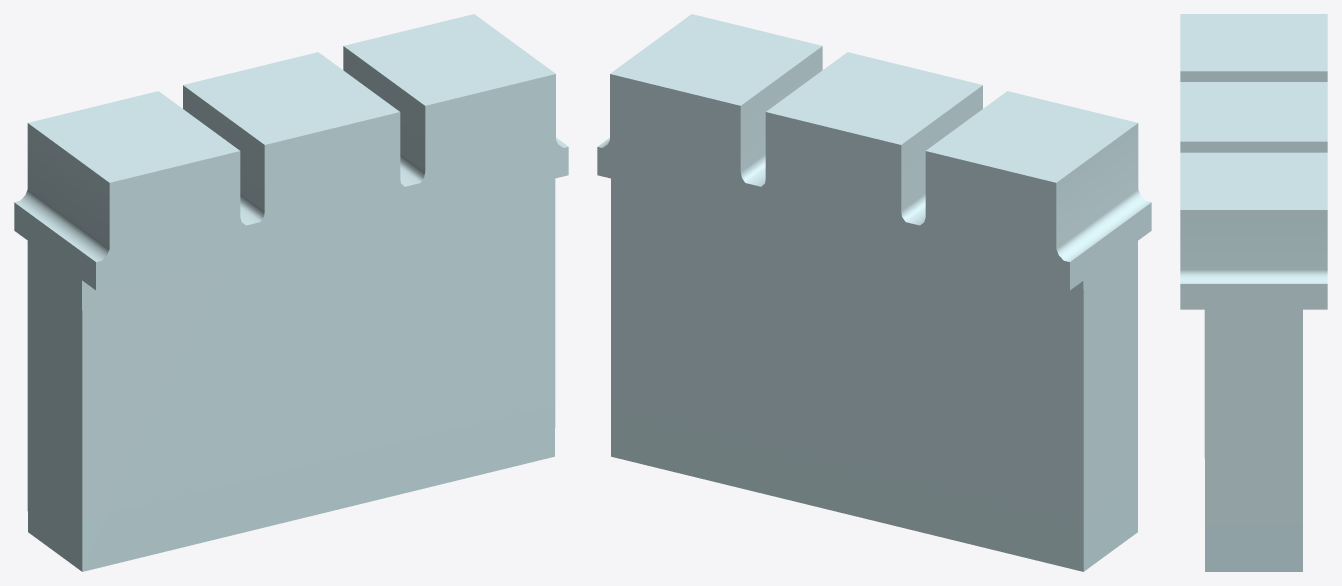
Rendered from SS_Castle_Wall1.fbx.
The picture shows the model from 3 angles, left to right: view 1: azimuth 30°, elevation 25°; view 2: azimuth 150°, elevation 25°; view 3: azimuth 270°, elevation 25°; orthographic projection. The views are drawn at different scales.
Visible parts, largest first — view 1: Castle_Wall1; view 2: Castle_Wall1; view 3: Castle_Wall1.
Boxes of the visible parts, left/top/right/bottom form: Castle_Wall1: left=14, top=14, right=568, bottom=571; Castle_Wall1: left=597, top=14, right=1151, bottom=571; Castle_Wall1: left=1180, top=14, right=1327, bottom=571.
Size of the model in its own units: 5 by 4 by 1.5.
